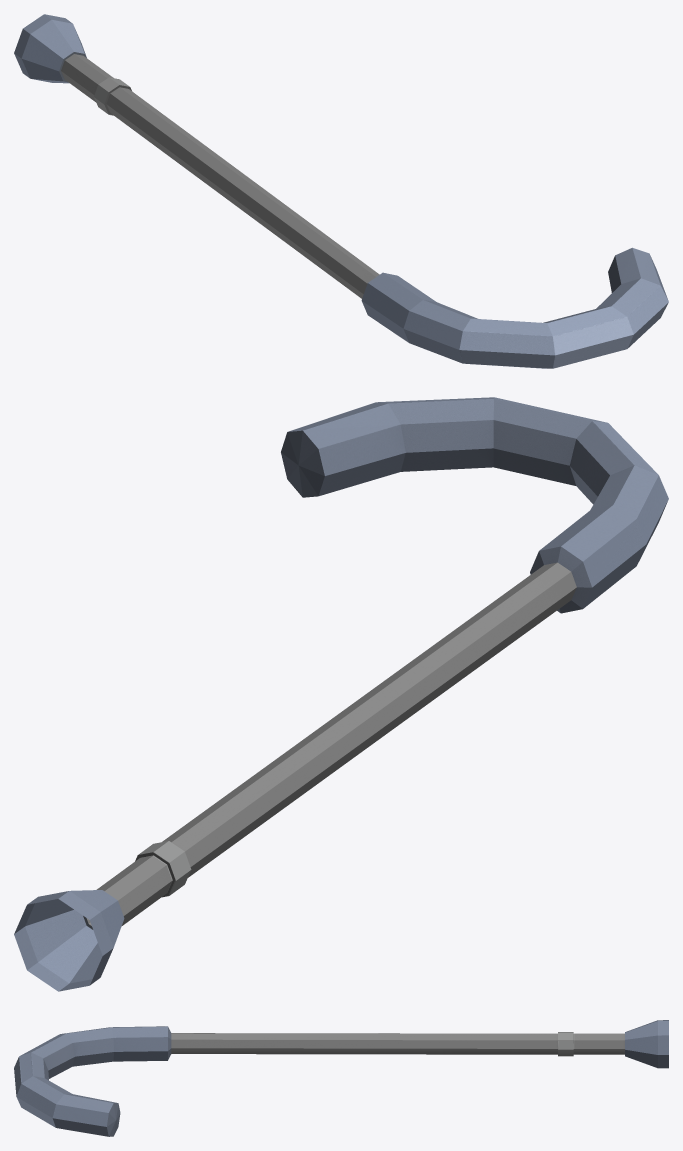
The model's file is WalkingCane.obj.
3 renders of one model, top to bottom at view 1: azimuth 30°, elevation 25°; view 2: azimuth 150°, elevation 25°; view 3: azimuth 270°, elevation 25°, orthographic. The views are drawn at different scales.
Visible parts, largest first — view 1: cane_BezierCurve; view 2: cane_BezierCurve; view 3: cane_BezierCurve.
Boxes of the visible parts, x1=… form: cane_BezierCurve: x1=14, y1=14, x2=668, y2=368; cane_BezierCurve: x1=14, y1=397, x2=668, y2=991; cane_BezierCurve: x1=14, y1=1020, x2=668, y2=1136.
Size of the model in its own units: 0.2481 by 0.0575 by 0.7337.
Materials: 1 (1 with a texture image).
